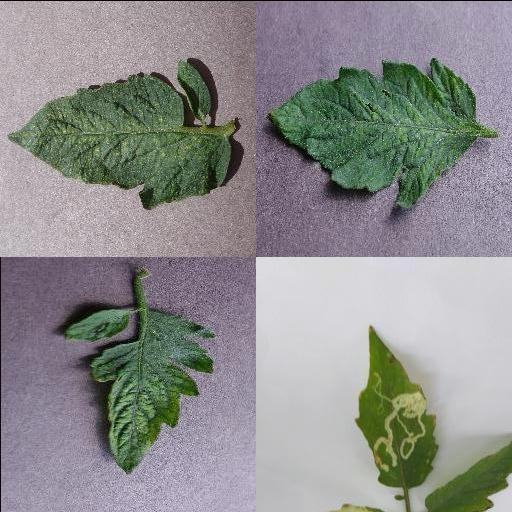Leaf Miner: (355, 325, 437, 487)
Mosaic Virus: (267, 58, 477, 210), (91, 307, 215, 473)
Spider Mites: (5, 72, 233, 208)
